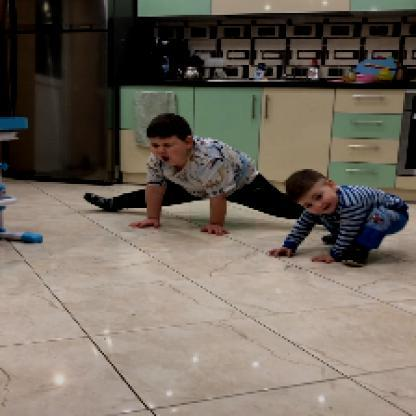child: (85, 114, 304, 242), (267, 170, 412, 267)
